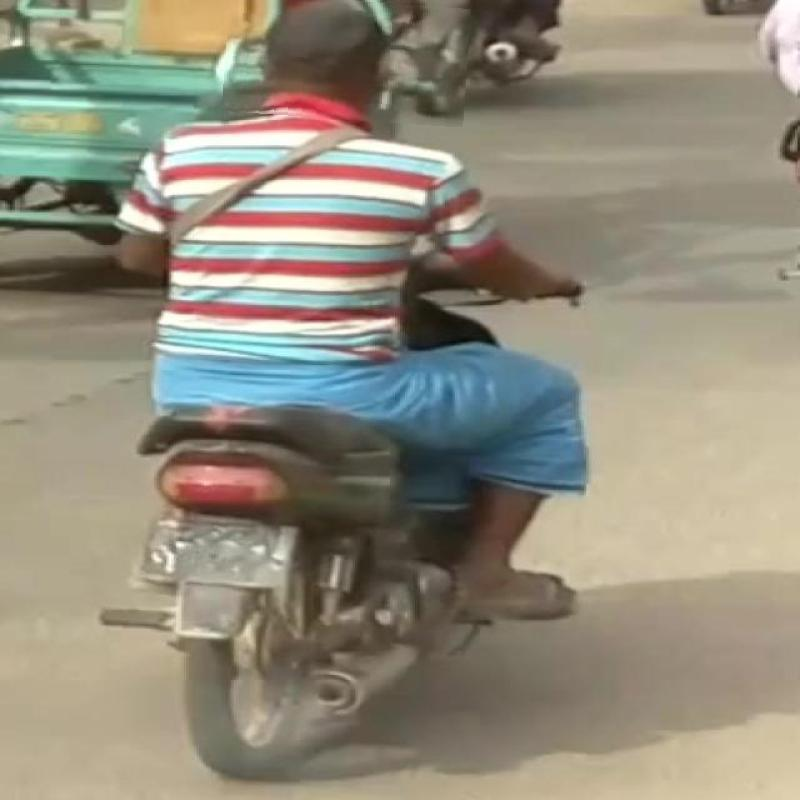nohelmet: (224, 0, 469, 123)
